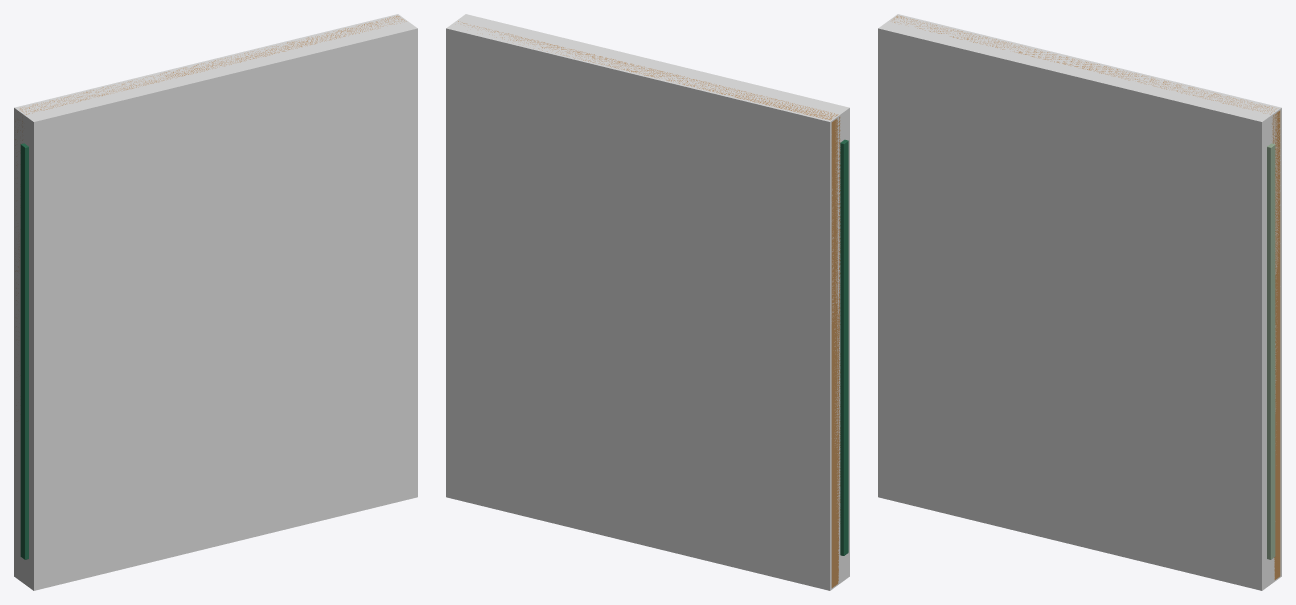
The model's file is window-treatment_retail.glb.
The picture shows the model from 3 angles, left to right: view 1: azimuth 30°, elevation 25°; view 2: azimuth 150°, elevation 25°; view 3: azimuth 330°, elevation 25°; orthographic projection.
Visible parts, largest first — view 1: COL_window-treatment, MESH_FinishPanel_01, MESH_FinishBase; view 2: COL_window-treatment, MESH_FinishBase, MESH_FinishPanel_01; view 3: COL_window-treatment, MESH_FinishBase, MESH_FinishPanel_06.
Boxes of the visible parts, box(x1,y1,x2,y2) form: COL_window-treatment: box(14, 14, 417, 590); MESH_FinishPanel_01: box(20, 143, 28, 559); MESH_FinishBase: box(15, 15, 406, 405); COL_window-treatment: box(446, 14, 849, 590); MESH_FinishBase: box(458, 21, 840, 587); MESH_FinishPanel_01: box(840, 139, 848, 555); COL_window-treatment: box(878, 14, 1281, 590); MESH_FinishBase: box(892, 15, 1280, 579); MESH_FinishPanel_06: box(1267, 143, 1275, 559).
Bounding box in the file's own units: 1.84 × 2.1 × 0.16.
